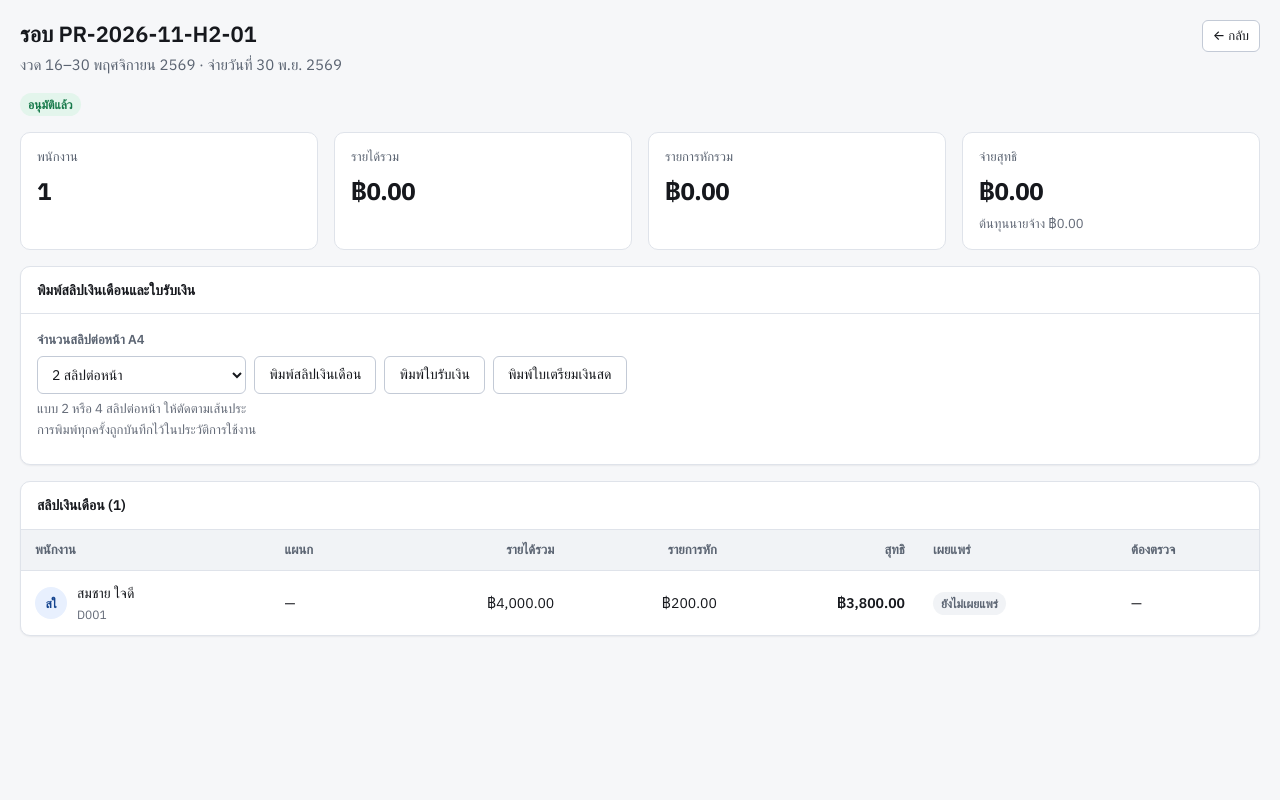
Test: Printing payslips and wage receipts (CW-071) › shows the reason when the server refuses to print
Click the button "พิมพ์สลิปเงินเดือน". click: (315, 375)
box: [254, 356, 376, 394]
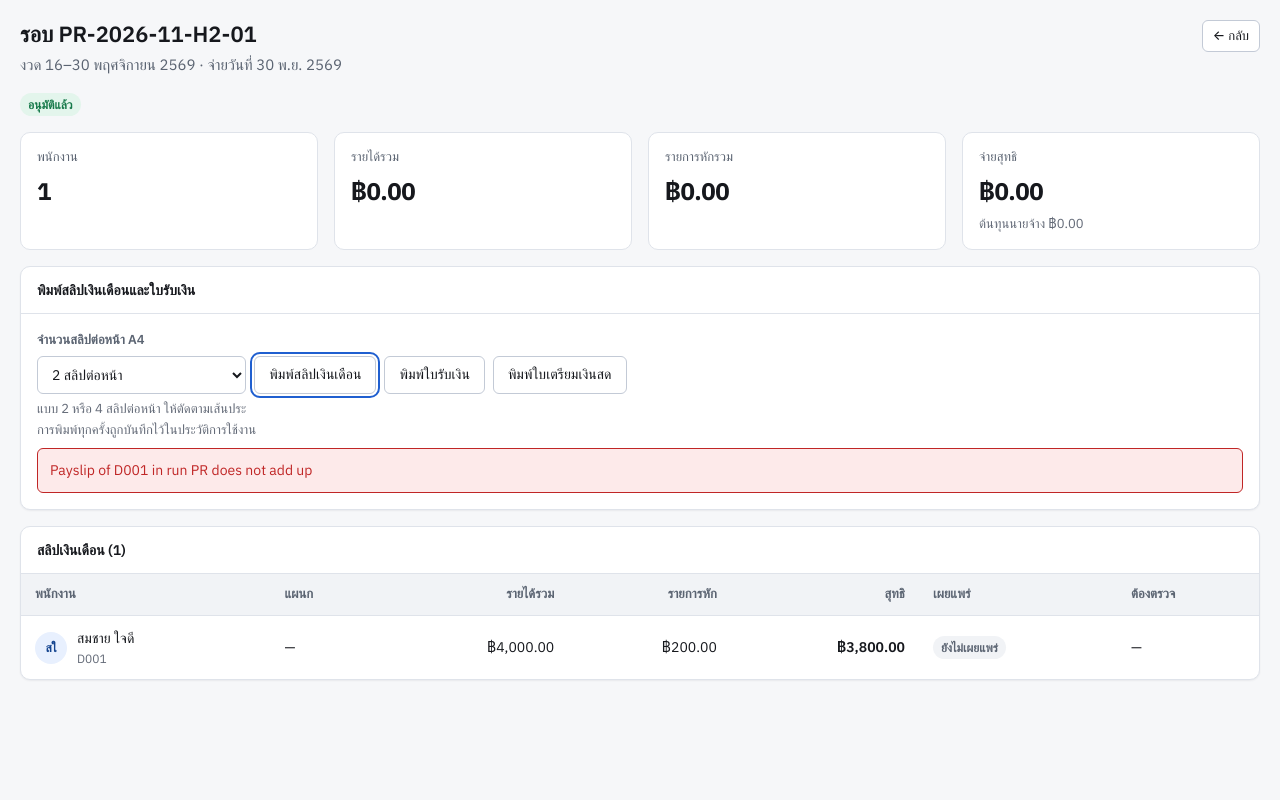
Check: the message shows "does not add up", box [50, 461, 312, 479]
